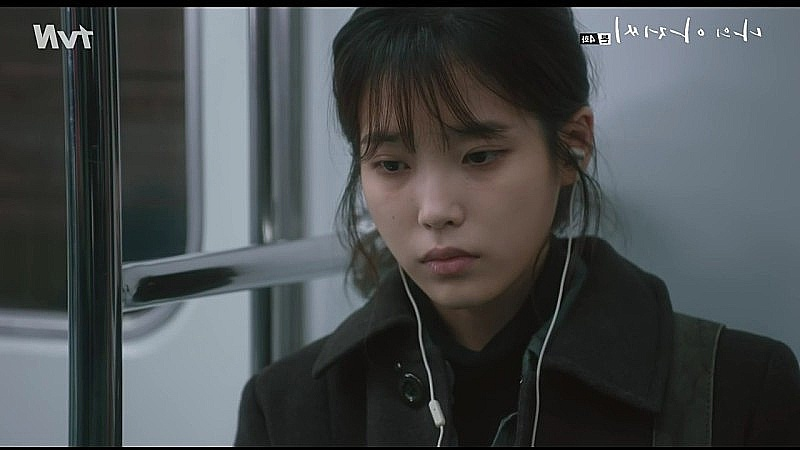earphone: (556, 107, 594, 186)
